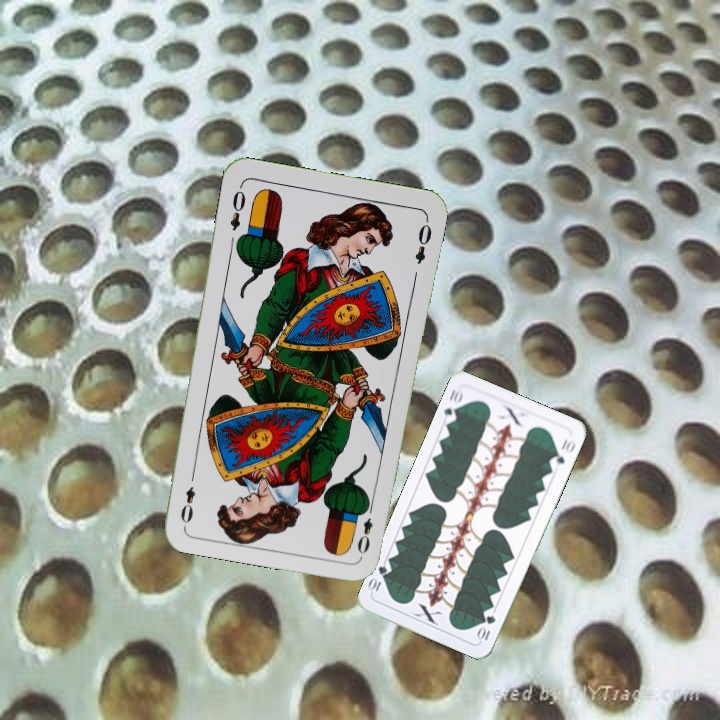EO: (353, 499, 376, 557), (225, 181, 248, 233)
G10: (439, 384, 465, 426), (474, 611, 498, 644)
